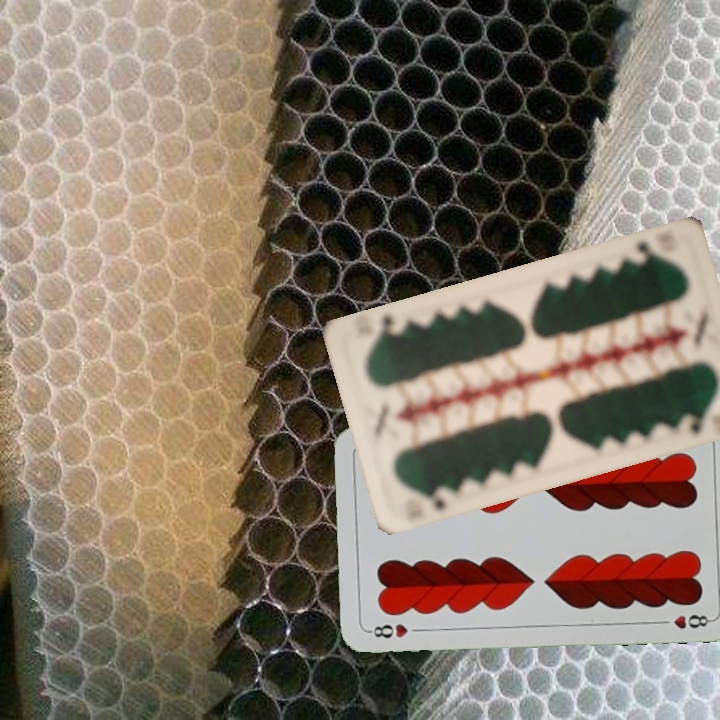G10: (625, 235, 666, 266), (417, 484, 453, 513)
H8: (365, 619, 411, 641)
